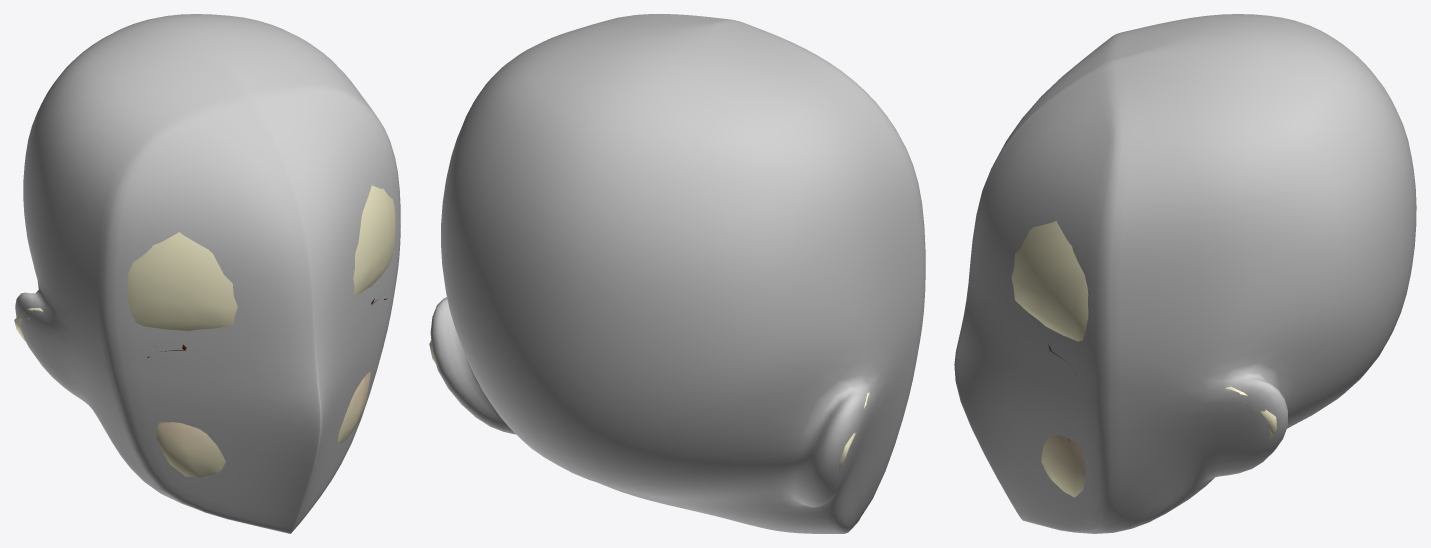
The model's file is kohaku_03.fbx.
The picture shows the model from 3 angles, left to right: view 1: azimuth 30°, elevation 25°; view 2: azimuth 150°, elevation 25°; view 3: azimuth 270°, elevation 25°; orthographic projection. The views are drawn at different scales.
Parts seen in each view (by area): view 1: obj4, head; view 2: obj4; view 3: obj4, head.
Part boxes in pixels (box(x1,y1,x2,y2)): obj4: box(15, 14, 400, 533); head: box(14, 185, 395, 477); obj4: box(430, 14, 925, 533); obj4: box(954, 14, 1416, 533); head: box(1011, 221, 1276, 497).
Bounding box in the file's own units: 17.09 × 21.32 × 18.6.
